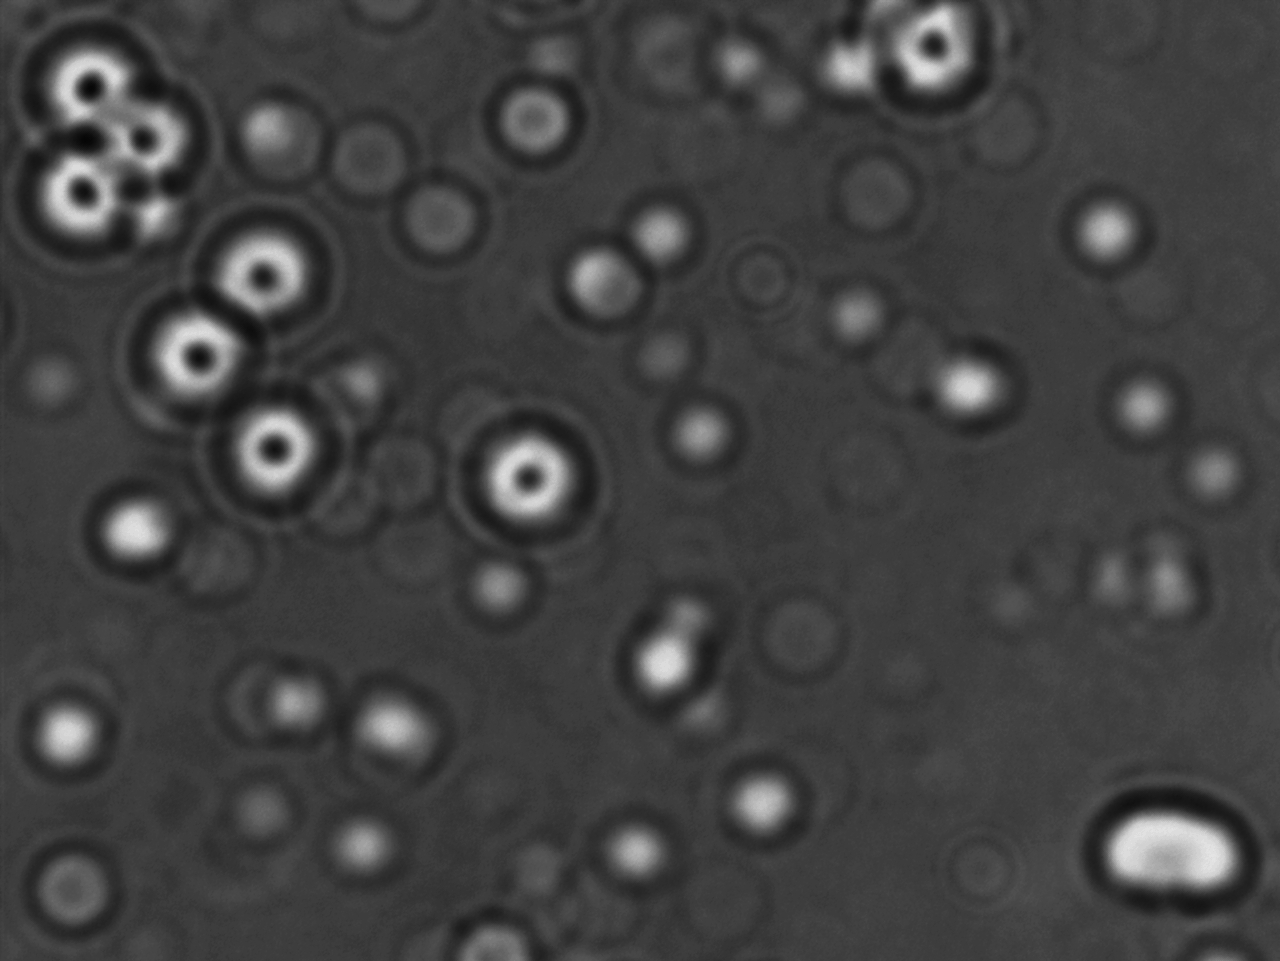depth:24: (458, 409, 600, 556)
depth:32: (193, 196, 337, 325), (84, 71, 222, 204), (128, 292, 262, 421), (211, 391, 342, 522), (20, 129, 139, 261), (30, 20, 161, 140)
